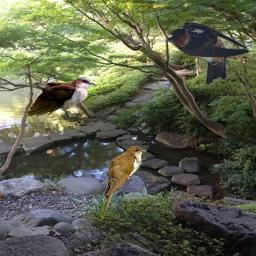Cuckoo: (26, 50, 97, 120), (101, 145, 147, 223)
Swallow: (165, 21, 250, 85)
